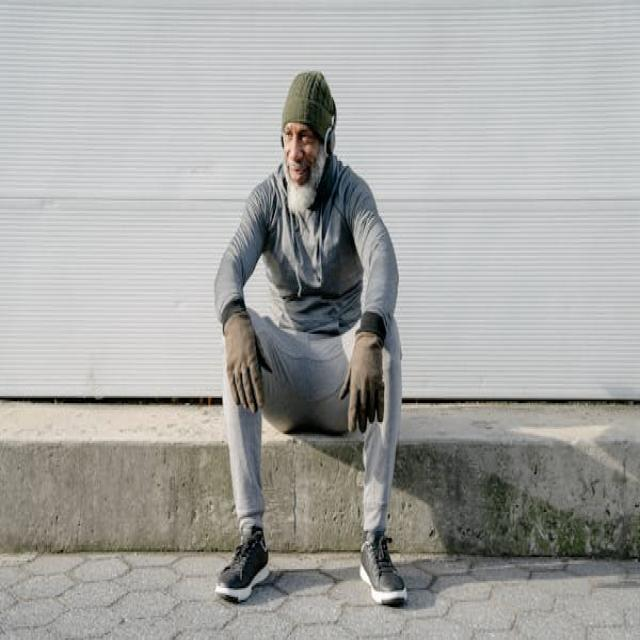Real human 2: (208, 55, 428, 624)
